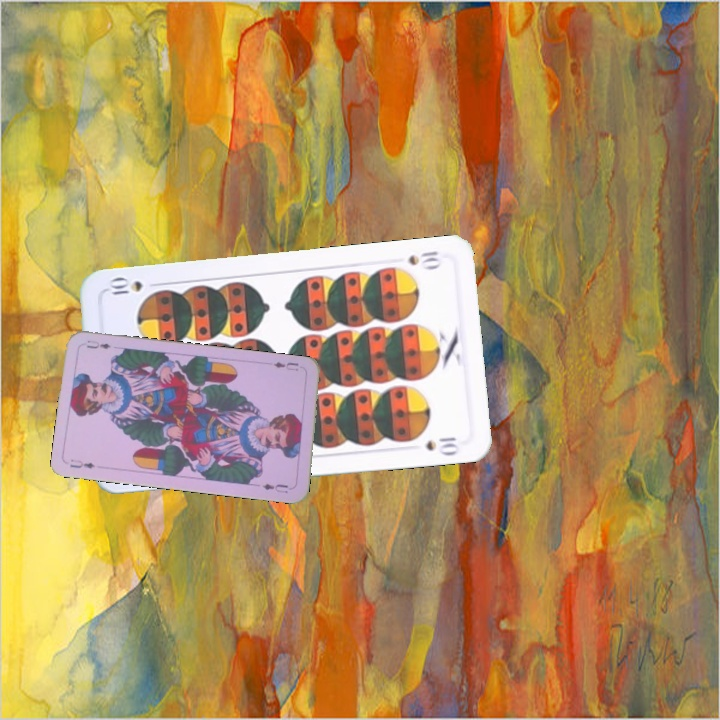EU: (269, 358, 301, 374), (66, 455, 97, 471)
S10: (404, 246, 445, 272)
